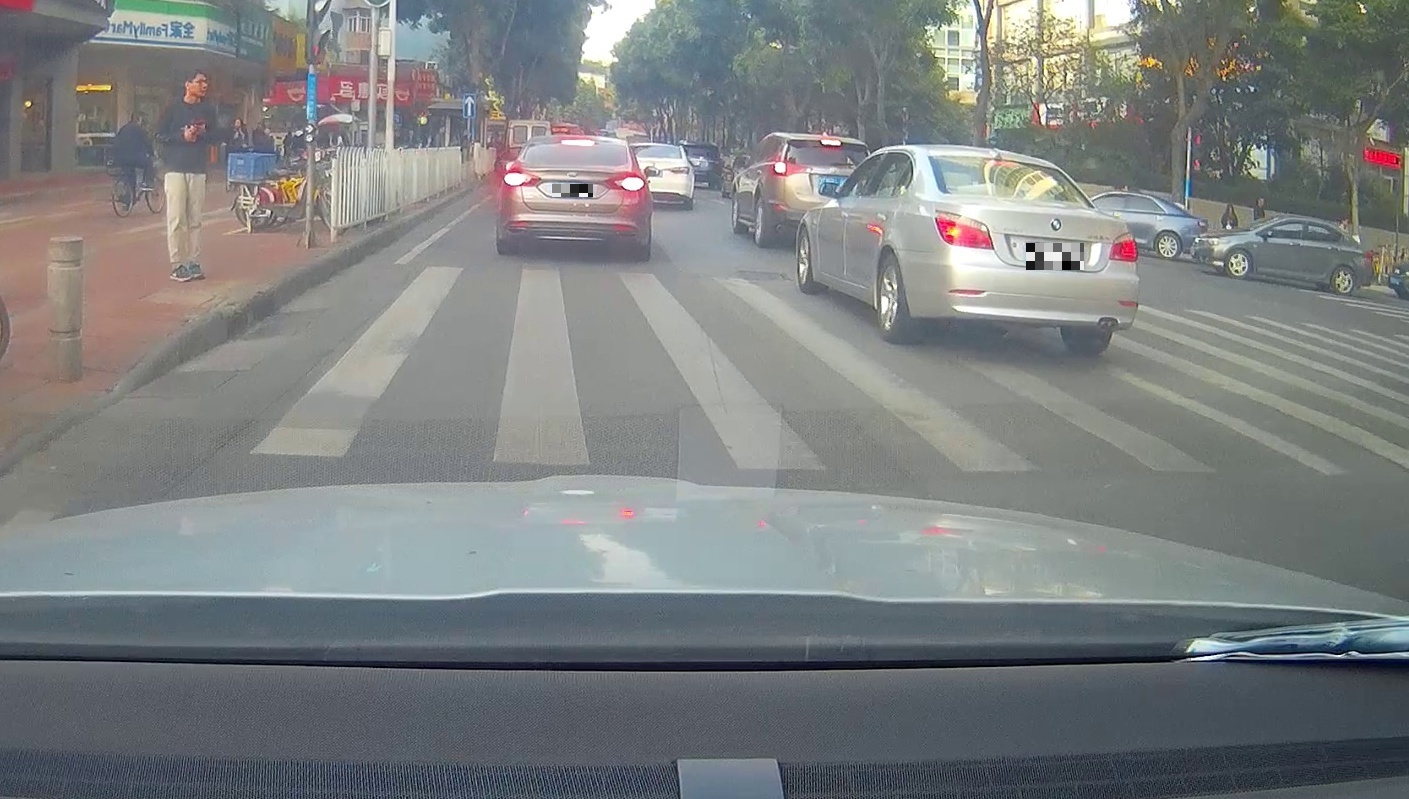L_light: (932, 209, 995, 250), (503, 171, 541, 187)
R_light: (1108, 232, 1139, 262), (605, 173, 646, 192)
T_light: (984, 159, 1022, 168), (561, 140, 595, 147)
day-brake: (914, 144, 1140, 354), (495, 135, 651, 262)
plate_1: (552, 184, 593, 197)
plate_2: (1026, 243, 1084, 270)
